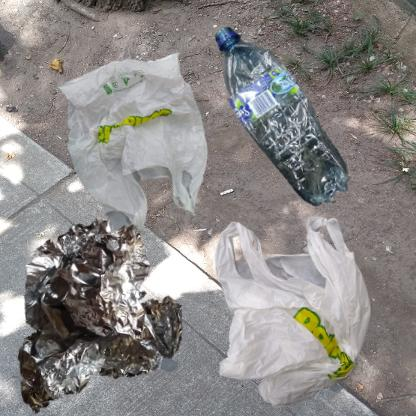aluminio: (10, 213, 189, 416)
bolsa: (10, 10, 280, 287), (213, 213, 375, 412)
botella: (213, 10, 365, 236)
